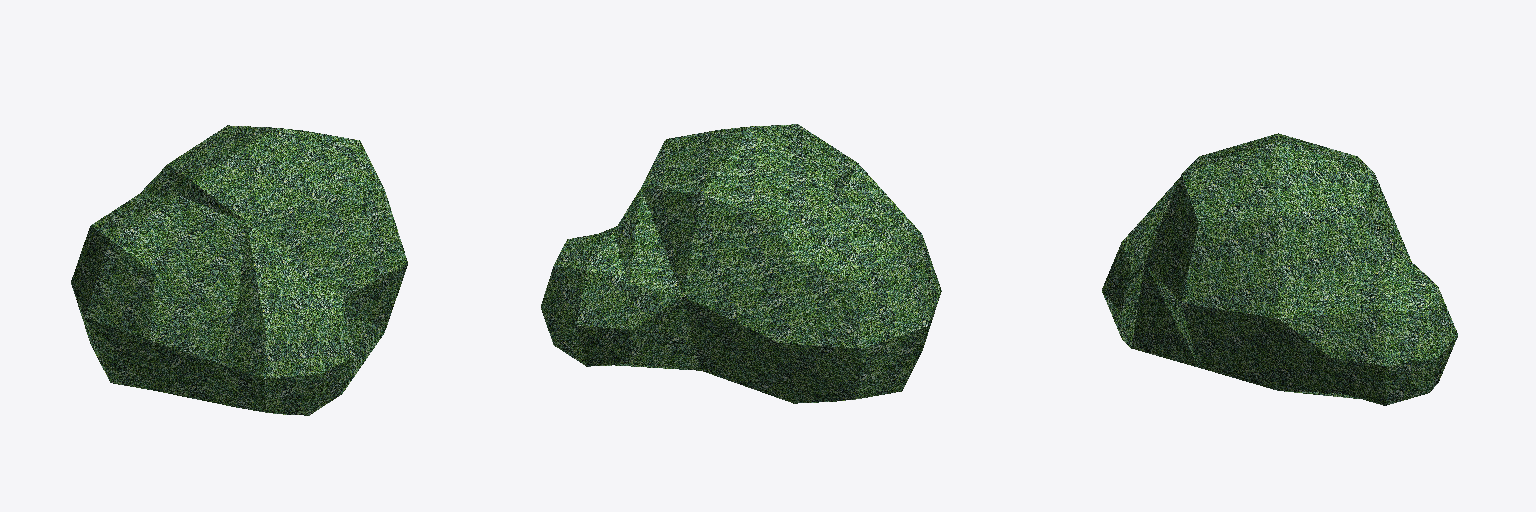
The picture shows the model from 3 angles: view 1: azimuth 30°, elevation 25°; view 2: azimuth 150°, elevation 25°; view 3: azimuth 270°, elevation 25°; orthographic projection.
Visible parts, largest first — view 1: Mesh_0; view 2: Mesh_0; view 3: Mesh_0.
Part boxes in pixels (x1,y1,x2,y2): Mesh_0: (71,125,407,415); Mesh_0: (541,124,941,403); Mesh_0: (1102,133,1457,405).
Bounding box in the file's own units: 0.3537 × 0.2533 × 0.3298.
1 materials, 1 textured.